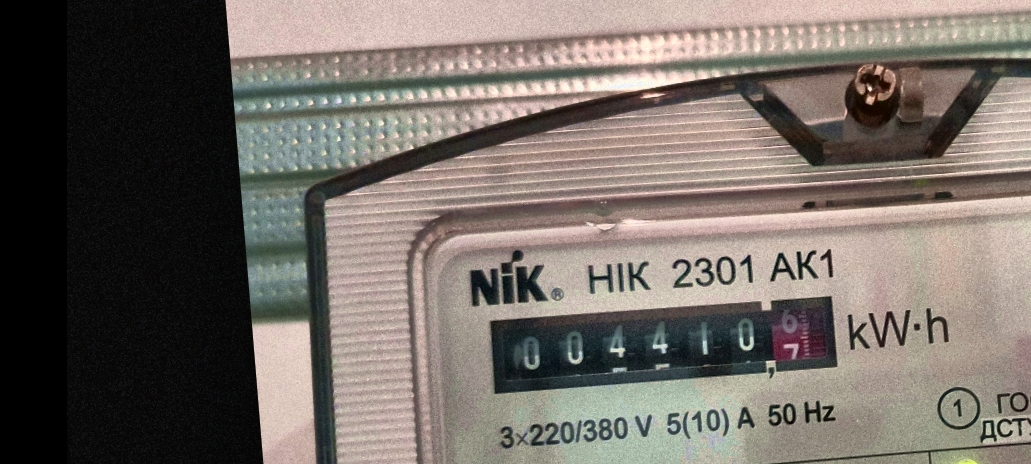0: (518, 332, 543, 371), (735, 315, 757, 353), (564, 327, 584, 366)
1: (695, 319, 712, 357)
4: (604, 320, 629, 360), (647, 318, 672, 358)
6: (781, 307, 800, 334)
7: (781, 340, 801, 361)
screen: (477, 279, 851, 407)
